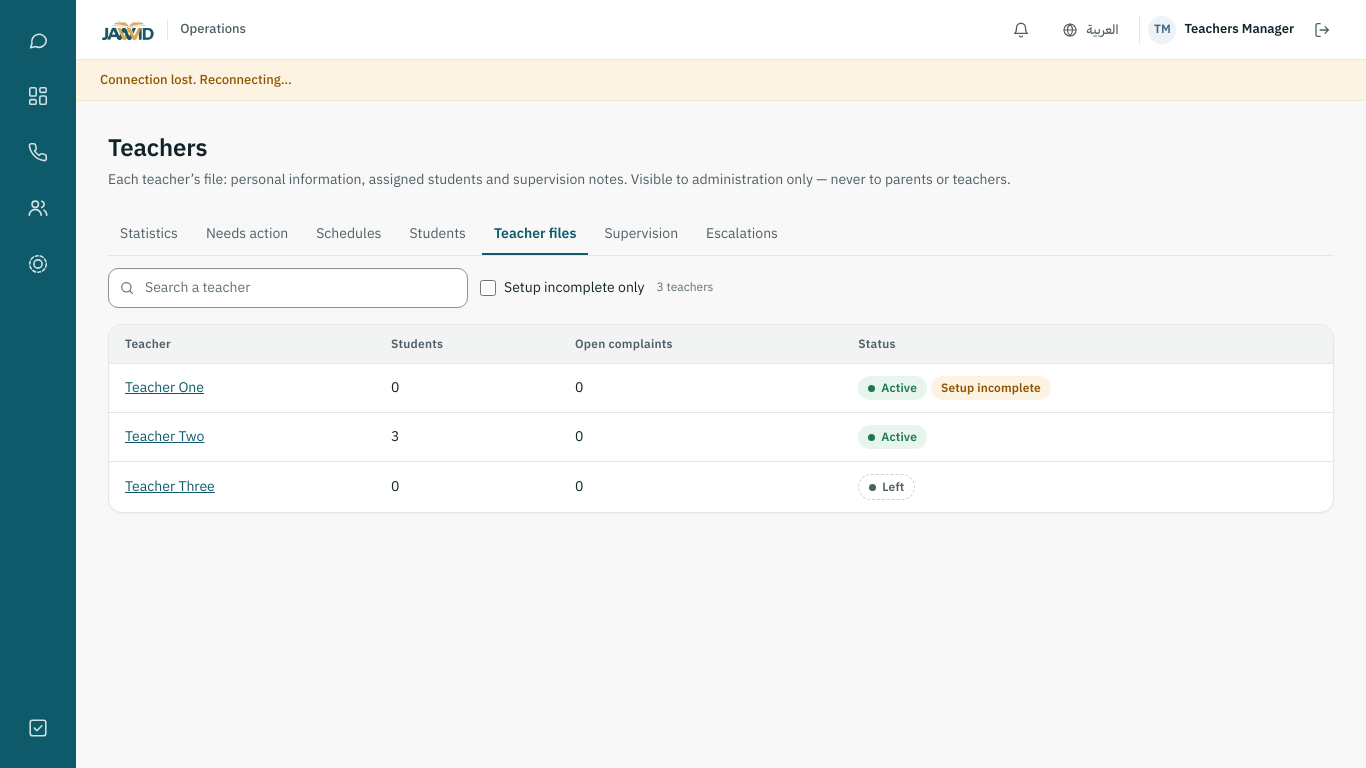
Set-up checklist › on the list: a badge, and a filter for the active teachers whose set-up is incomplete
Expected: the text "Setup incomplete" is shown, [931,376,1051,400]
Click the checkbox labelled "Setup incomplete only" at (488, 288), box [480,280,496,296]
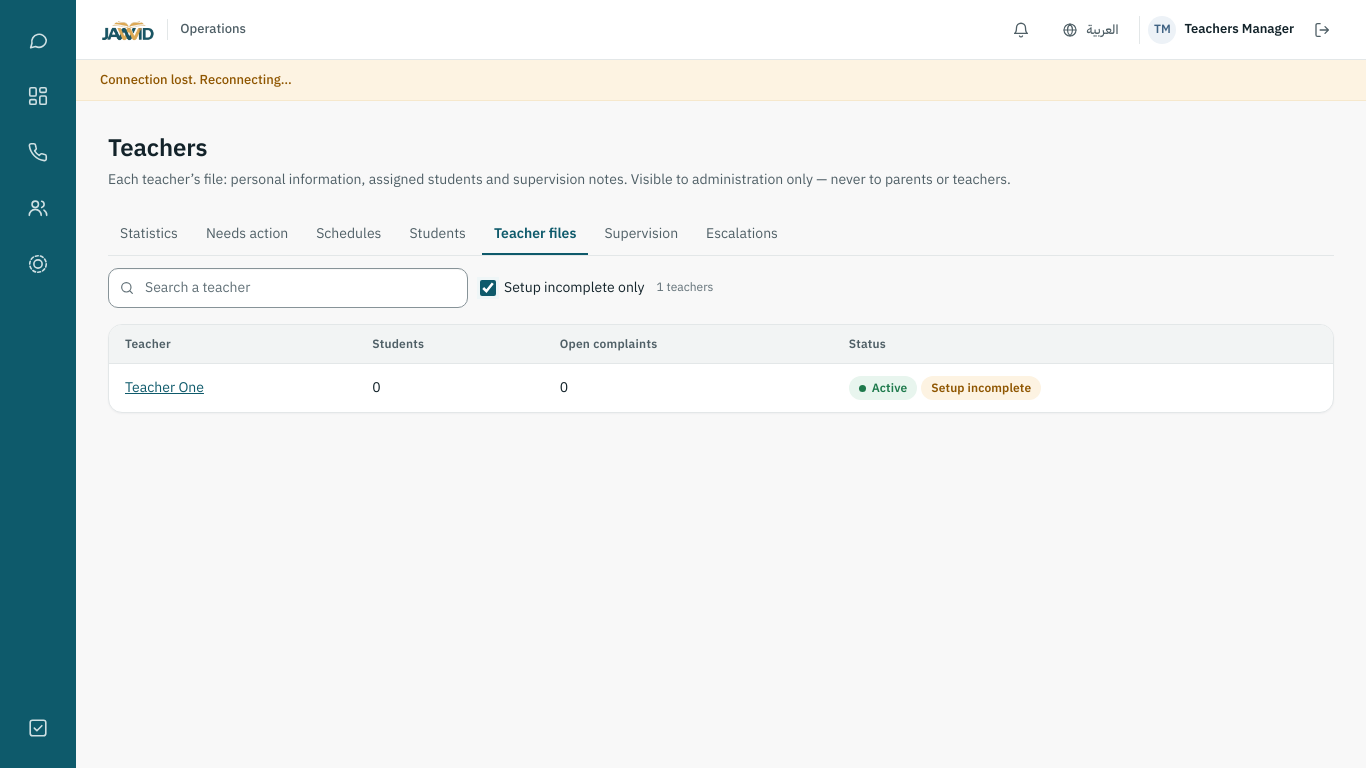
Expected: the link "Teacher One" is shown, [125,377,204,398]
Now the link "Teacher Two" is gone
Now the link "Teacher Three" is gone
